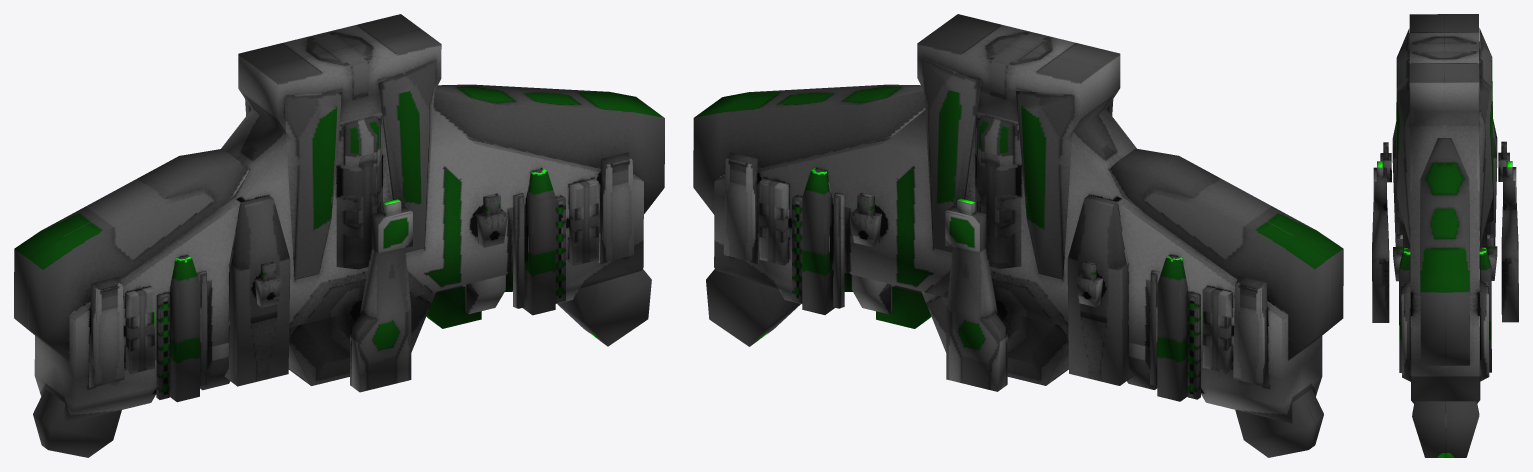
File: green_spaceship_02.fbx
3 views of the same model, side by side, from view 1: azimuth 30°, elevation 25°; view 2: azimuth 150°, elevation 25°; view 3: azimuth 270°, elevation 25° (orthographic). The views are drawn at different scales.
Parts seen in each view (by area): view 1: UnionFlagshipMod; view 2: UnionFlagshipMod; view 3: UnionFlagshipMod.
Part boxes in pixels (box(x1,y1,x2,y2)): UnionFlagshipMod: box(14, 14, 664, 457); UnionFlagshipMod: box(693, 14, 1343, 457); UnionFlagshipMod: box(1372, 14, 1518, 457).
Size of the model in its own units: 3938 by 942 by 2132.
